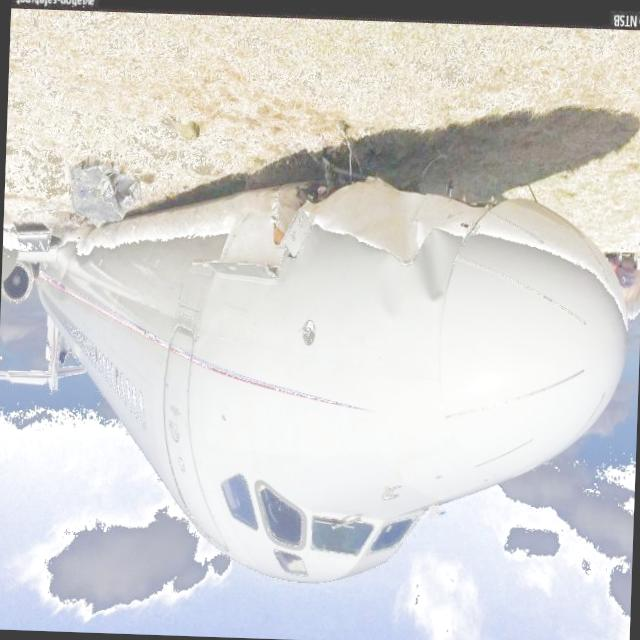dent: (414, 222, 452, 306), (372, 250, 408, 321)
